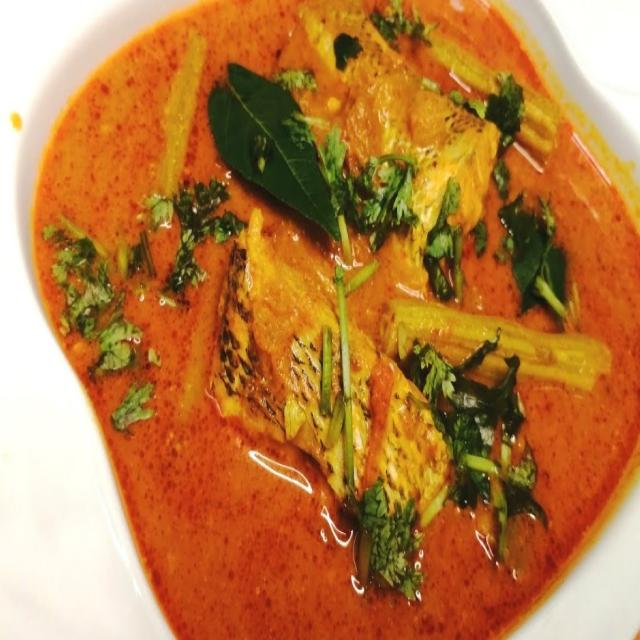FISH CURRY: (34, 0, 639, 639)
